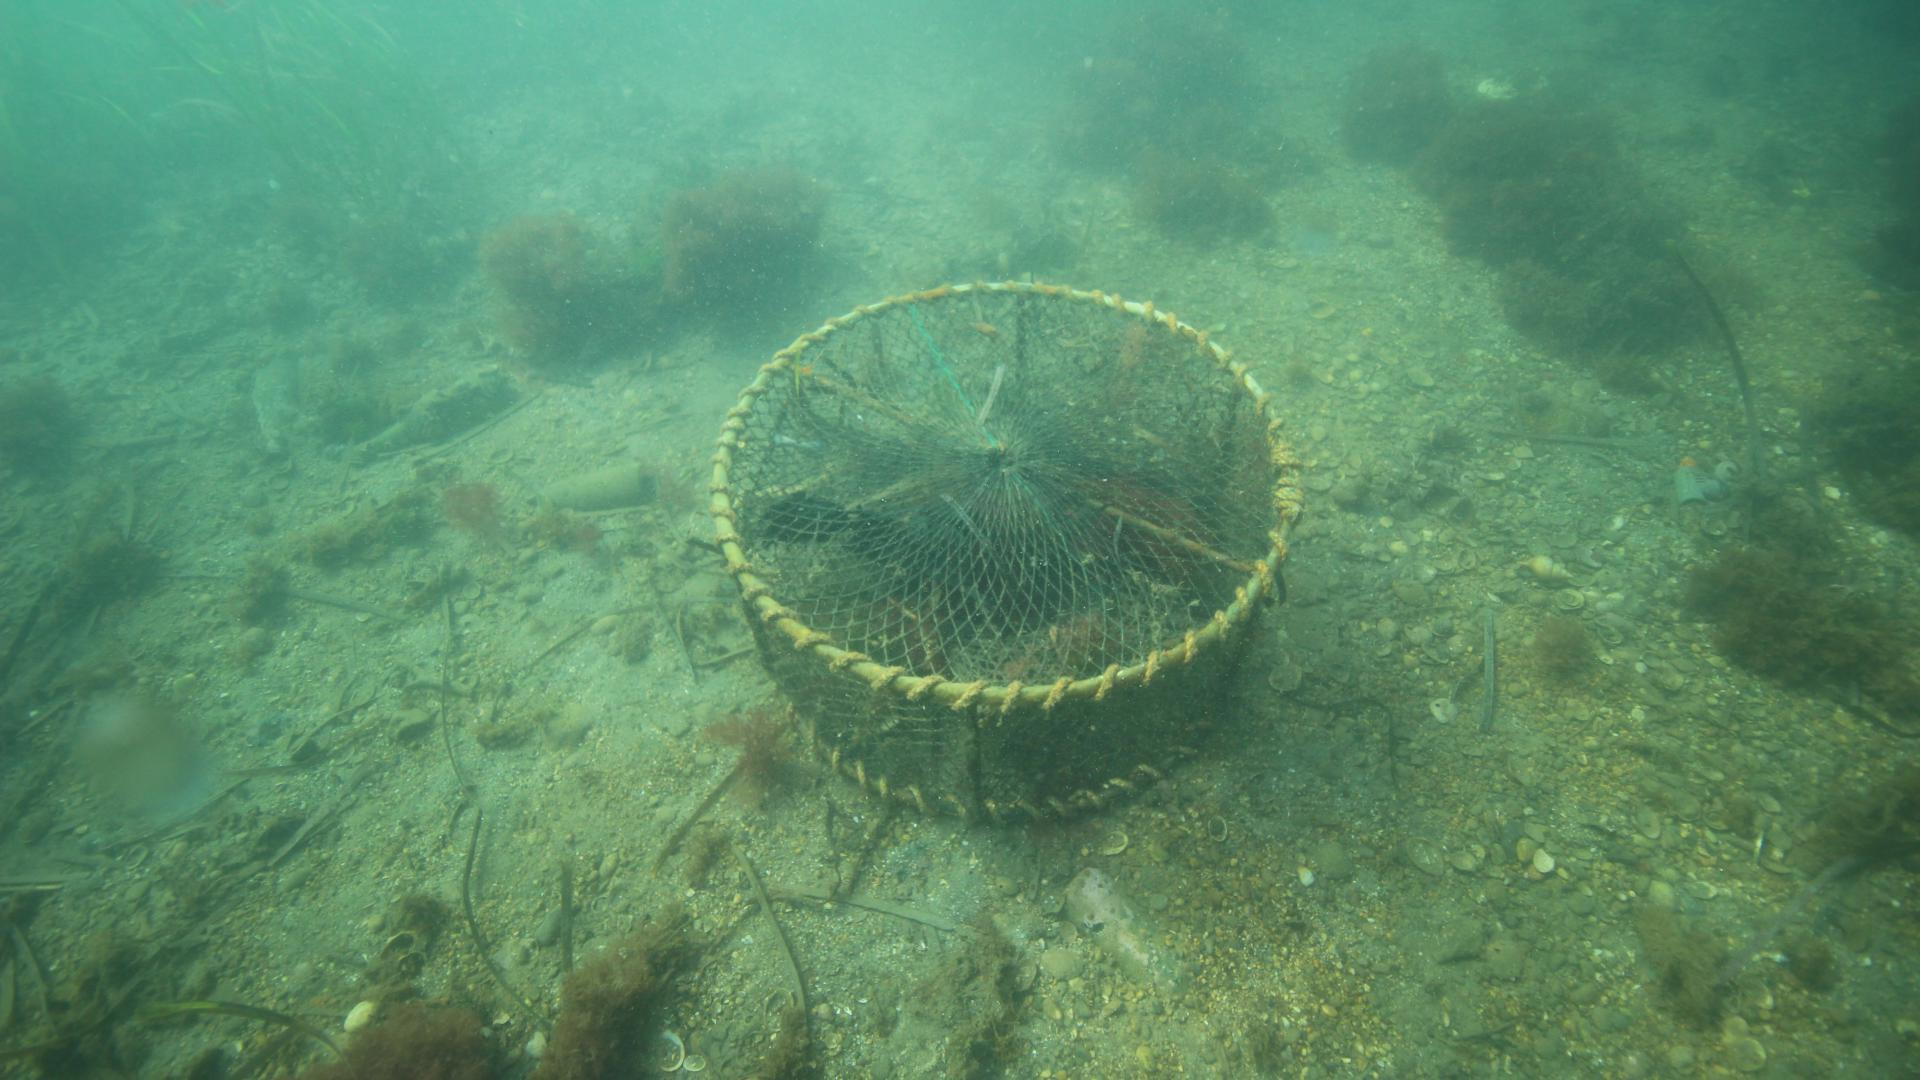circular fish trap: (705, 276, 1305, 827)
